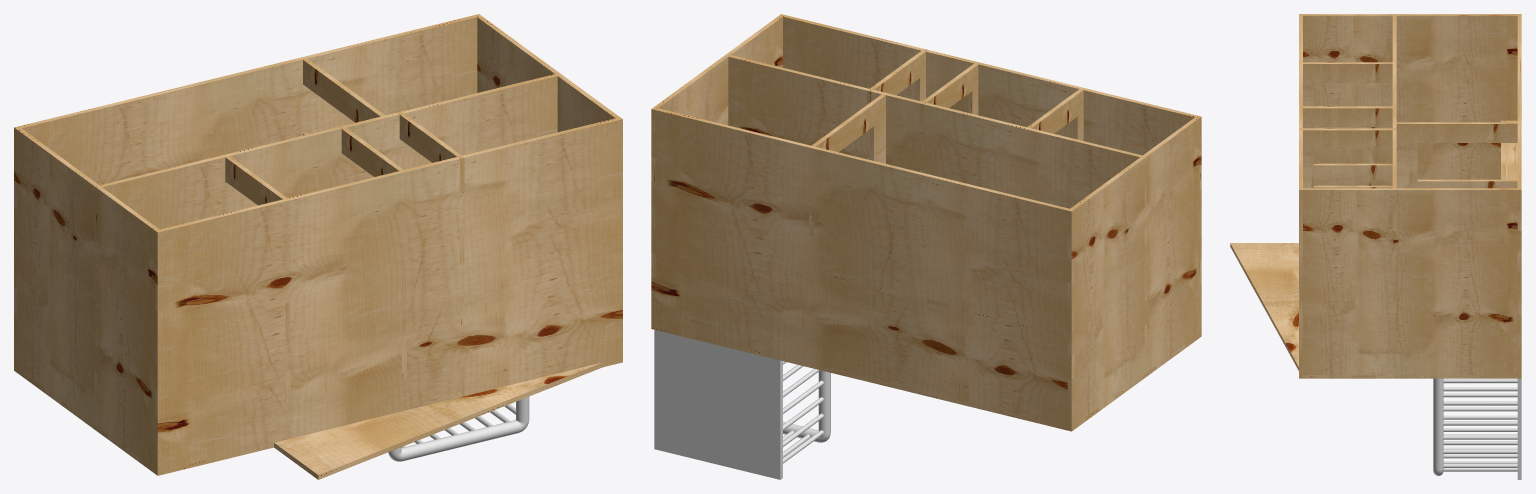
The picture shows the model from 3 angles, left to right: view 1: azimuth 30°, elevation 25°; view 2: azimuth 150°, elevation 25°; view 3: azimuth 270°, elevation 25°; orthographic projection. The views are drawn at different scales.
Visible parts, largest first — view 1: roof, left wall, gf, ff, face, right wall, Body58, Body40, Body42, downstairs dividing wall, Body41; view 2: gf, left wall, ff, Body58, roof, right wall, downstairs dividing wall, Body41, Body40, face, Body42, kitchen hall divider; view 3: right wall, left wall, Body58, face, downstairs dividing wall, Body41, Body42, Body40, roof, gf, ff, kitchen hall divider.
Part boxes in pixels (bbox=[...]): roof: bbox=[155, 117, 622, 475]; left wall: bbox=[14, 128, 162, 473]; gf: bbox=[14, 15, 477, 367]; ff: bbox=[94, 74, 557, 399]; face: bbox=[29, 362, 602, 479]; right wall: bbox=[475, 14, 619, 132]; Body58: bbox=[388, 396, 529, 461]; Body40: bbox=[397, 111, 464, 396]; Body42: bbox=[225, 156, 290, 405]; downstairs dividing wall: bbox=[303, 58, 384, 135]; Body41: bbox=[339, 125, 406, 381]; gf: bbox=[651, 108, 1074, 426]; left wall: bbox=[1067, 117, 1201, 431]; ff: bbox=[728, 55, 1146, 349]; Body58: bbox=[654, 330, 830, 479]; roof: bbox=[779, 14, 1201, 337]; right wall: bbox=[651, 16, 782, 325]; downstairs dividing wall: bbox=[809, 94, 885, 296]; Body41: bbox=[919, 63, 978, 172]; Body40: bbox=[867, 49, 927, 159]; face: bbox=[651, 324, 1184, 430]; Body42: bbox=[1027, 89, 1083, 140]; kitchen hall divider: bbox=[832, 275, 1043, 331]; right wall: bbox=[1303, 188, 1521, 378]; left wall: bbox=[1303, 14, 1517, 179]; Body58: bbox=[1433, 378, 1521, 479]; face: bbox=[1230, 243, 1521, 378]; downstairs dividing wall: bbox=[1396, 122, 1517, 188]; Body41: bbox=[1303, 106, 1396, 185]; Body42: bbox=[1303, 62, 1392, 163]; Body40: bbox=[1299, 128, 1396, 188]; roof: bbox=[1299, 14, 1302, 378]; gf: bbox=[1517, 14, 1521, 354]; ff: bbox=[1392, 15, 1396, 354]; kitchen hall divider: bbox=[1501, 120, 1517, 179].
Bounding box in the file's own units: 0.4 × 0.3086 × 0.28.
Materials: 2 (1 with a texture image).
